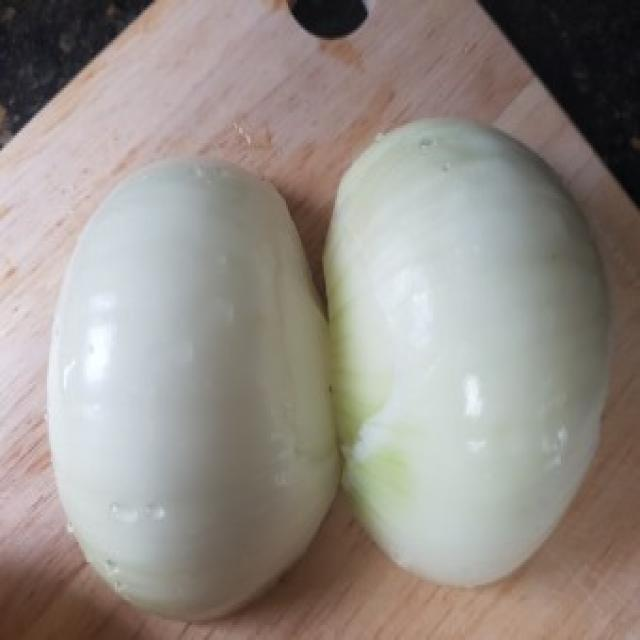onion: (27, 151, 332, 622), (336, 113, 622, 602)
